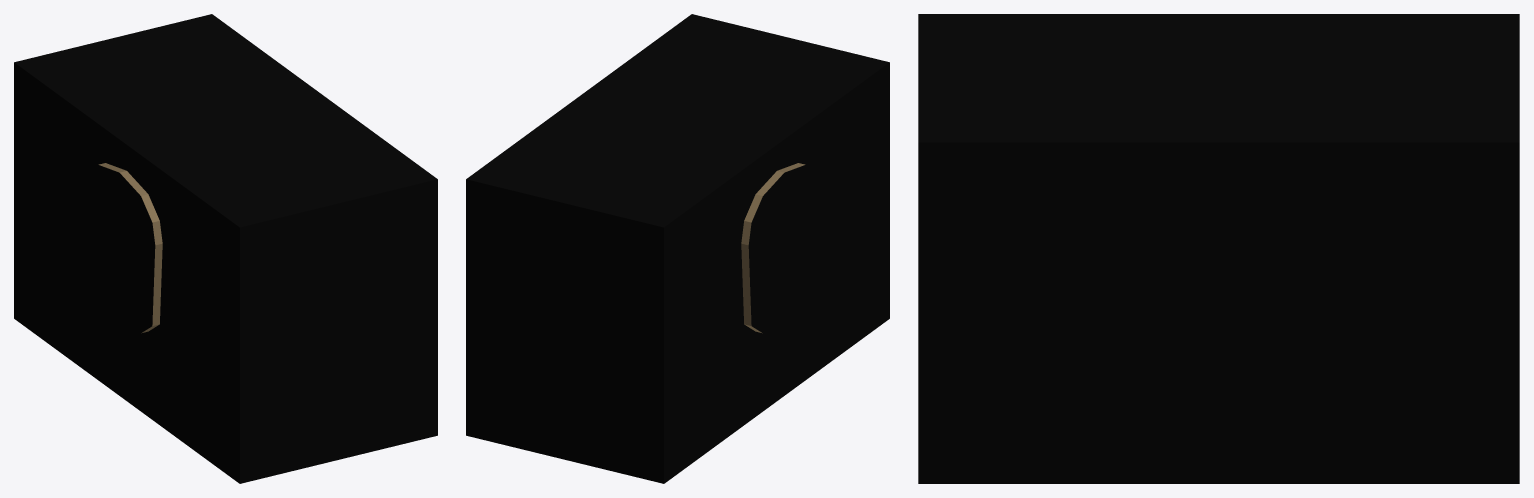
File: mounted-glory.gltf
3 views of the same model, side by side, from view 1: azimuth 30°, elevation 25°; view 2: azimuth 150°, elevation 25°; view 3: azimuth 270°, elevation 25° (orthographic). The views are drawn at different scales.
Bounding box in the file's own units: 83 × 99 × 158.
Materials: 2 (2 with a texture image).
